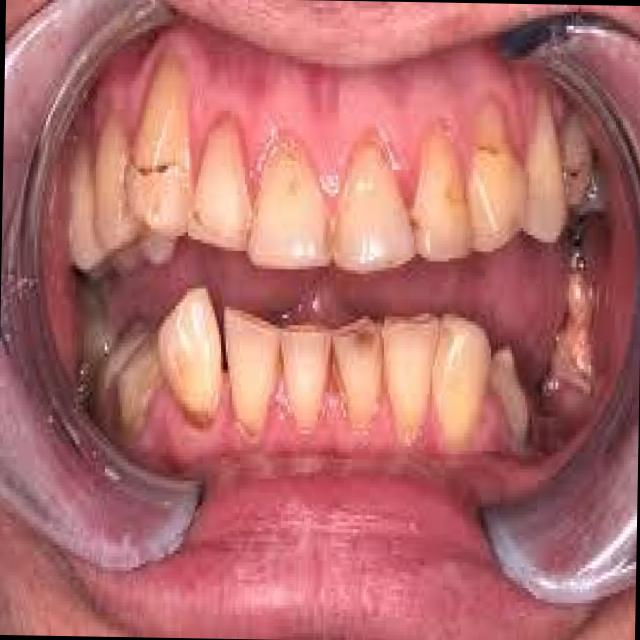Caries: (111, 326, 164, 441), (322, 220, 332, 255), (138, 165, 166, 175)
Tooth: (126, 57, 191, 239), (244, 143, 334, 269), (332, 141, 415, 277), (468, 97, 526, 248), (160, 285, 221, 428), (431, 313, 491, 450), (188, 124, 253, 250), (224, 303, 281, 440), (414, 131, 472, 261), (93, 112, 144, 255), (383, 310, 438, 442), (523, 95, 572, 242), (111, 326, 164, 441), (283, 325, 335, 437), (333, 312, 384, 424)
